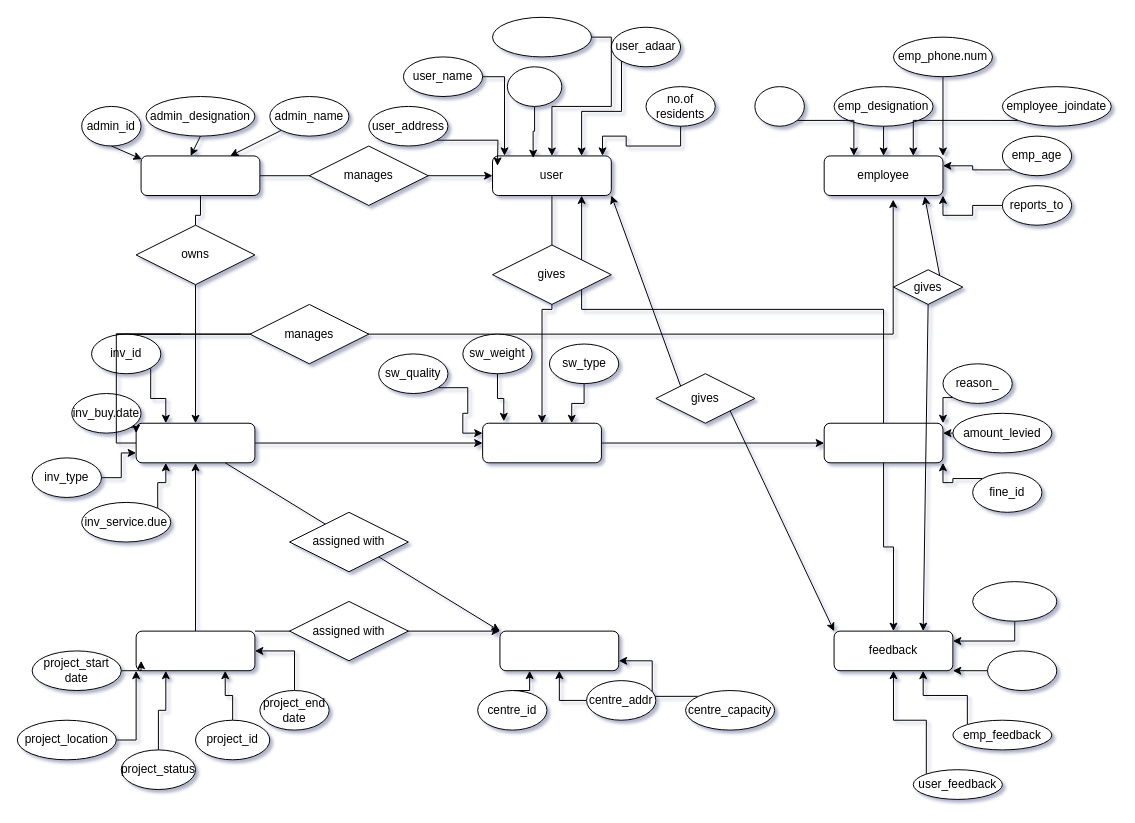
Image size: 1135x823. Some labels were removed from this diagram. The centre of each missing label's shape, as x and y in pixels:
admin: point 200,175
collection centres: point 559,650
emp_id: point 779,106
feedback_id: point 1022,670
feedback_rated: point 1014,601
fines levied: point 883,442
inventory: point 195,442
projects: point 195,650
SW characteristics: point 541,442
user_id: point 534,86
user_phone_num: point 542,36
